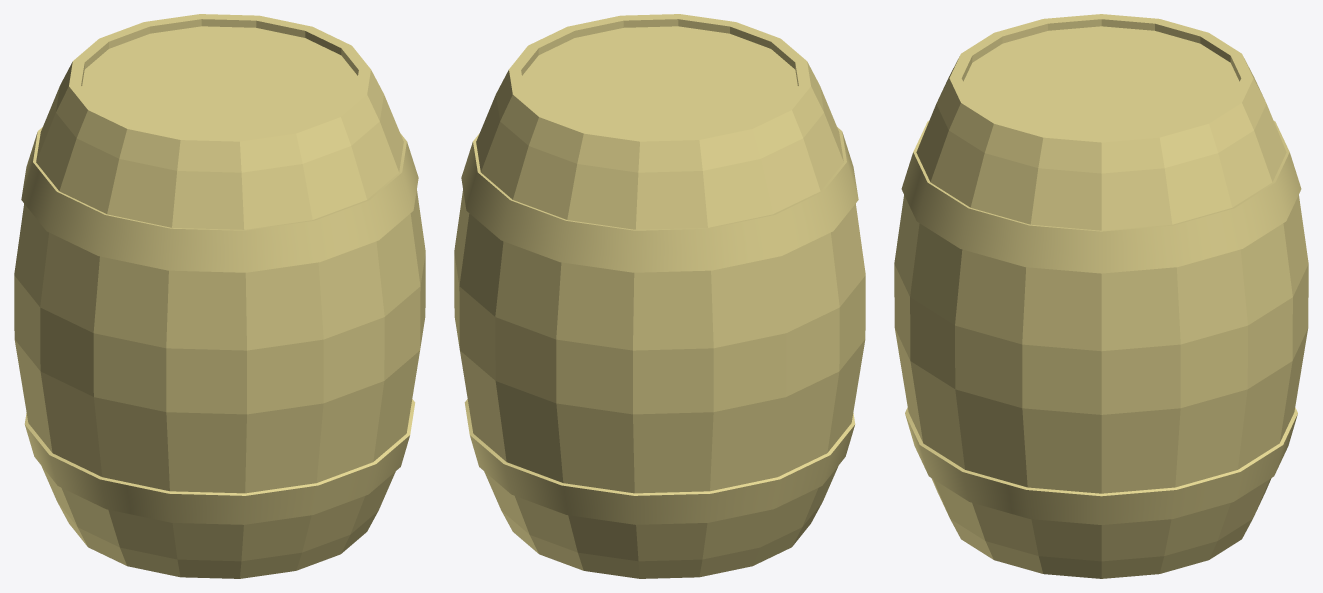
Rendered from Barrel01.fbx.
3 views of the same model, side by side, from view 1: azimuth 30°, elevation 25°; view 2: azimuth 150°, elevation 25°; view 3: azimuth 270°, elevation 25° (orthographic).
Parts seen in each view (by area): view 1: Barrel3_Lowpoly; view 2: Barrel3_Lowpoly; view 3: Barrel3_Lowpoly.
Boxes of the visible parts, <box> form: Barrel3_Lowpoly: <box>14,14,425,578</box>; Barrel3_Lowpoly: <box>454,14,865,578</box>; Barrel3_Lowpoly: <box>894,14,1308,578</box>.
Size of the model in its own units: 83.06 by 96.53 by 83.06.
